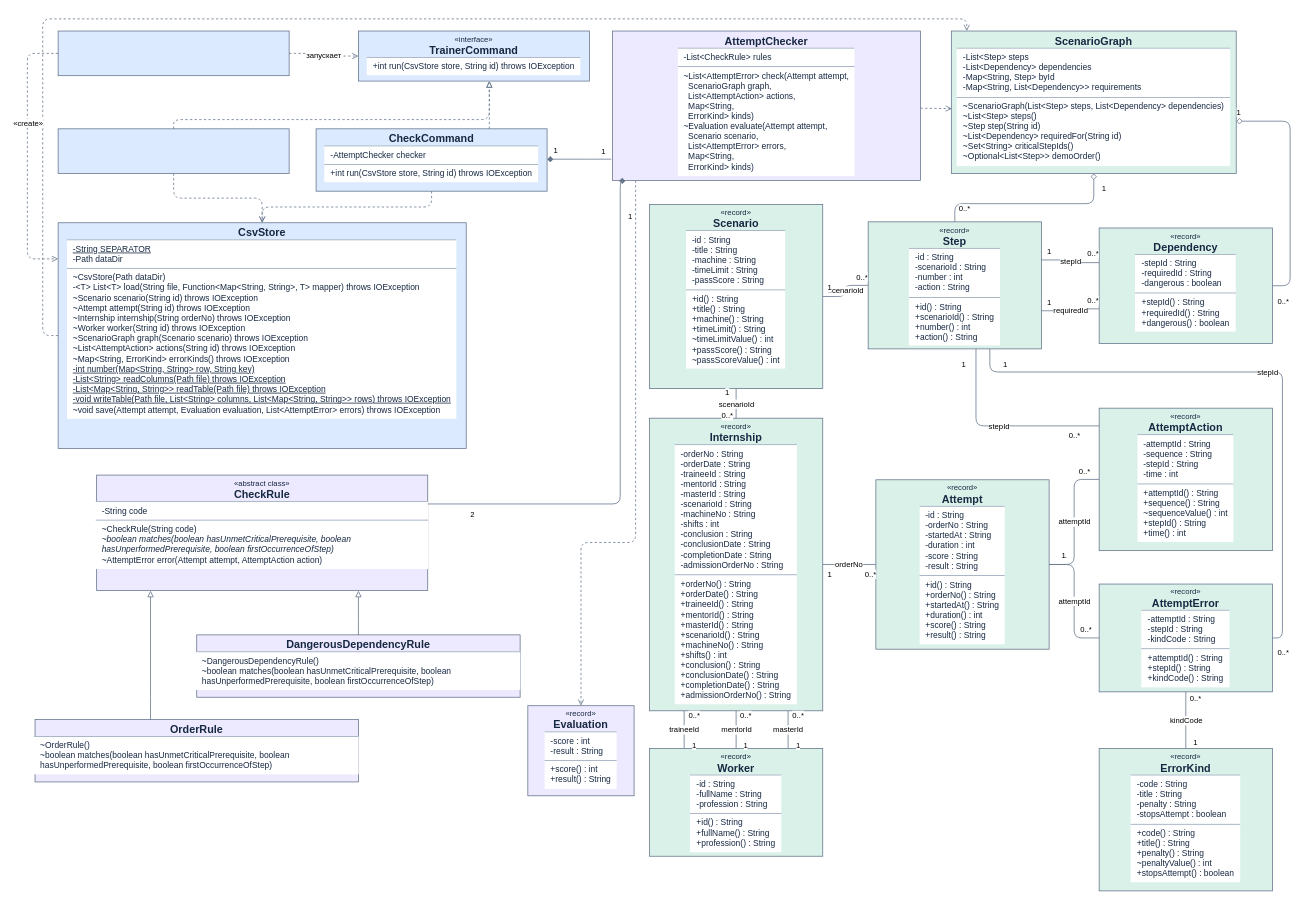
The diagram is 1310 pixels wide and 908 high, and some of its shapes have lost their labels. Each missing label, with the centre of its shape:
"DemoCommand +int run(CsvStore store, String id) throws IOException" goes at pixel 173 150.
"Trainer +void main(String[] args) throws IOException" goes at pixel 173 53.
